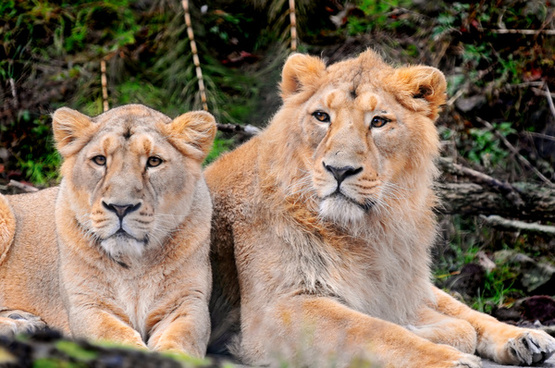lion: (278, 49, 448, 244), (48, 99, 220, 265)
